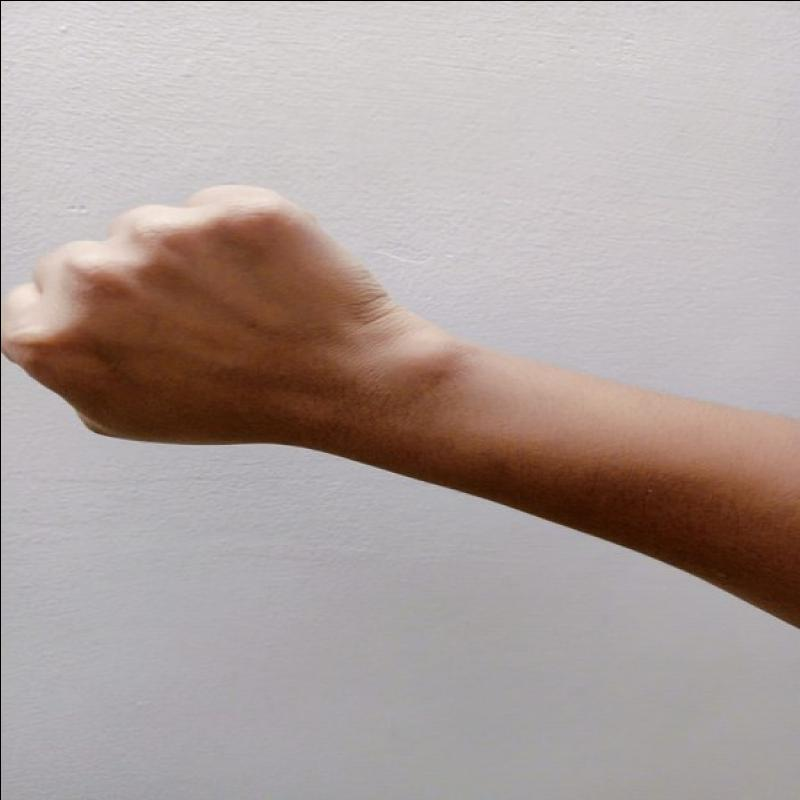Mushti: (1, 168, 425, 462)
